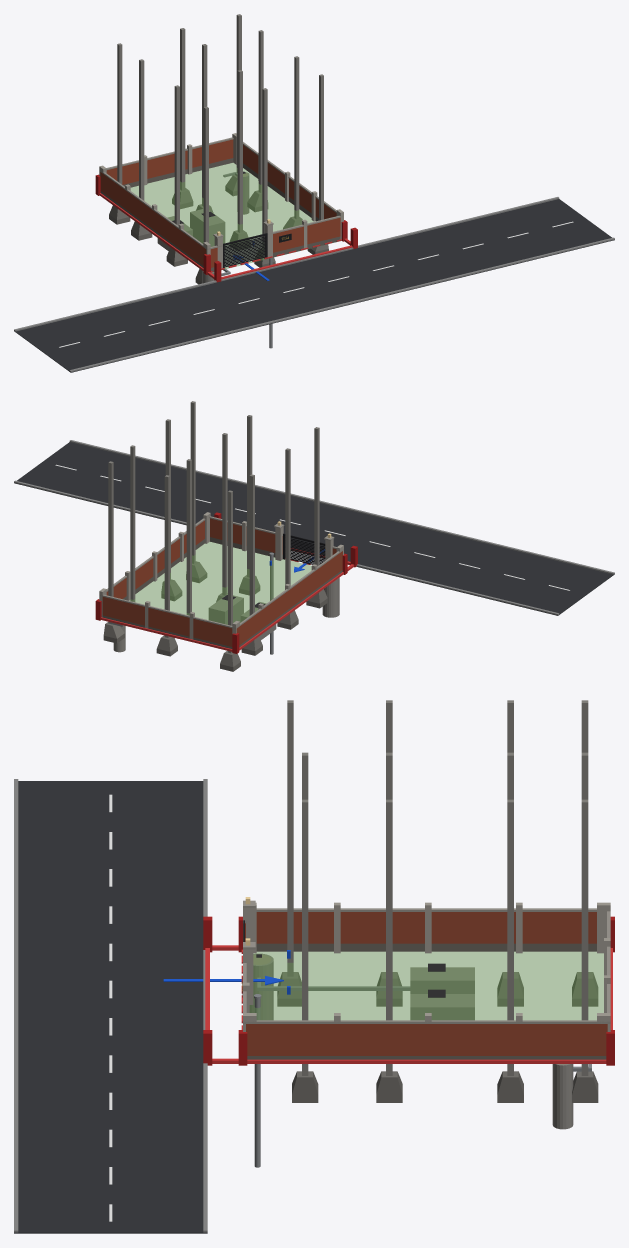
The model's file is 11_underground_services.glb.
The picture shows the model from 3 angles, top to bottom: view 1: azimuth 30°, elevation 25°; view 2: azimuth 150°, elevation 25°; view 3: azimuth 270°, elevation 25°; orthographic projection. The views are drawn at different scales.
Parts seen in each view (by area): view 1: 05_Road, PIL_Concrete, Ground_Ghost_Plane, 05_Kerb, BAS_Footing, Wall_North, Wall_Rear, Wall_Piers_and_Pillars, Wall_Front_with_Gate, Wall_South, UG_Tanks_and_Pits, Wall_Coping (+3 smaller); view 2: 05_Road, PIL_Concrete, Ground_Ghost_Plane, 05_Kerb, Wall_Rear, BAS_Footing, Wall_North, Wall_Piers_and_Pillars, UG_Tanks_and_Pits, Wall_South, Wall_Coping, Wall_Front_with_Gate (+4 smaller); view 3: 05_Road, Ground_Ghost_Plane, Wall_South, Wall_North, PIL_Concrete, BAS_Footing, UG_Tanks_and_Pits, 05_Kerb, Wall_Piers_and_Pillars, Wall_Coping, 03_Boundary_Line, 03_Boundary_Post (+2 smaller).
Part boxes in pixels (<box>): 05_Road: <box>14,199,614,372</box>; PIL_Concrete: <box>117,14,323,248</box>; Ground_Ghost_Plane: <box>130,163,321,269</box>; 05_Kerb: <box>14,197,614,372</box>; BAS_Footing: <box>109,175,328,284</box>; Wall_North: <box>100,172,206,267</box>; Wall_Rear: <box>106,139,233,187</box>; Wall_Piers_and_Pillars: <box>99,133,343,268</box>; Wall_Front_with_Gate: <box>210,217,340,272</box>; Wall_South: <box>243,145,336,221</box>; UG_Tanks_and_Pits: <box>157,172,249,283</box>; Wall_Coping: <box>99,137,342,249</box>; 05_Road: <box>14,442,614,615</box>; PIL_Concrete: <box>108,401,319,653</box>; Ground_Ghost_Plane: <box>129,542,311,624</box>; 05_Kerb: <box>14,440,614,615</box>; Wall_Rear: <box>102,597,232,648</box>; BAS_Footing: <box>103,561,327,671</box>; Wall_North: <box>236,551,342,647</box>; Wall_Piers_and_Pillars: <box>99,512,343,639</box>; UG_Tanks_and_Pits: <box>113,577,339,652</box>; Wall_South: <box>106,520,204,599</box>; Wall_Coping: <box>99,516,343,628</box>; Wall_Front_with_Gate: <box>210,518,336,558</box>; 05_Road: <box>14,781,207,1233</box>; Ground_Ghost_Plane: <box>249,951,603,1020</box>; Wall_South: <box>246,1024,607,1059</box>; Wall_North: <box>256,912,596,951</box>; PIL_Concrete: <box>287,700,588,1075</box>; BAS_Footing: <box>277,972,598,1102</box>; UG_Tanks_and_Pits: <box>249,953,573,1129</box>; 05_Kerb: <box>14,779,207,1232</box>; Wall_Piers_and_Pillars: <box>243,902,610,1031</box>; Wall_Coping: <box>243,908,610,1023</box>; 03_Boundary_Line: <box>205,945,612,1063</box>; 03_Boundary_Post: <box>203,916,614,1065</box>.
Bounding box in the file's own units: 36.4 × 15.75 × 20.47.
